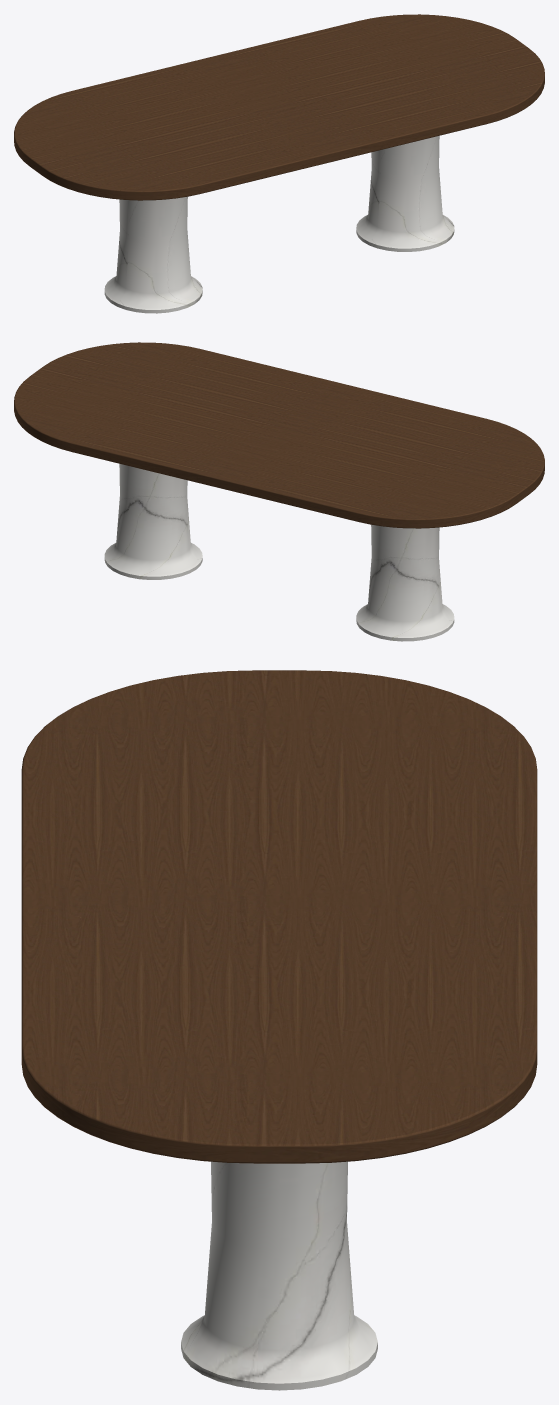
The model's file is kitchen_table.gltf.
The picture shows the model from 3 angles, top to bottom: view 1: azimuth 30°, elevation 25°; view 2: azimuth 150°, elevation 25°; view 3: azimuth 270°, elevation 25°; orthographic projection. The views are drawn at different scales.
Visible parts, largest first — view 1: KitchenTable_Top, KitchenTable_Pier-1, KitchenTable_Pier1; view 2: KitchenTable_Top, KitchenTable_Pier-1, KitchenTable_Pier1; view 3: KitchenTable_Top, KitchenTable_Pier1.
Part boxes in pixels (bbox=[...]): KitchenTable_Top: bbox=[14, 14, 544, 200]; KitchenTable_Pier-1: bbox=[104, 196, 202, 313]; KitchenTable_Pier1: bbox=[356, 135, 454, 251]; KitchenTable_Top: bbox=[14, 342, 544, 528]; KitchenTable_Pier-1: bbox=[356, 524, 454, 641]; KitchenTable_Pier1: bbox=[104, 463, 202, 579]; KitchenTable_Top: bbox=[21, 670, 537, 1163]; KitchenTable_Pier1: bbox=[181, 1161, 377, 1390].
Size of the model in its own units: 2.4 by 0.75 by 1.1.
Materials: 3 (2 with a texture image).
